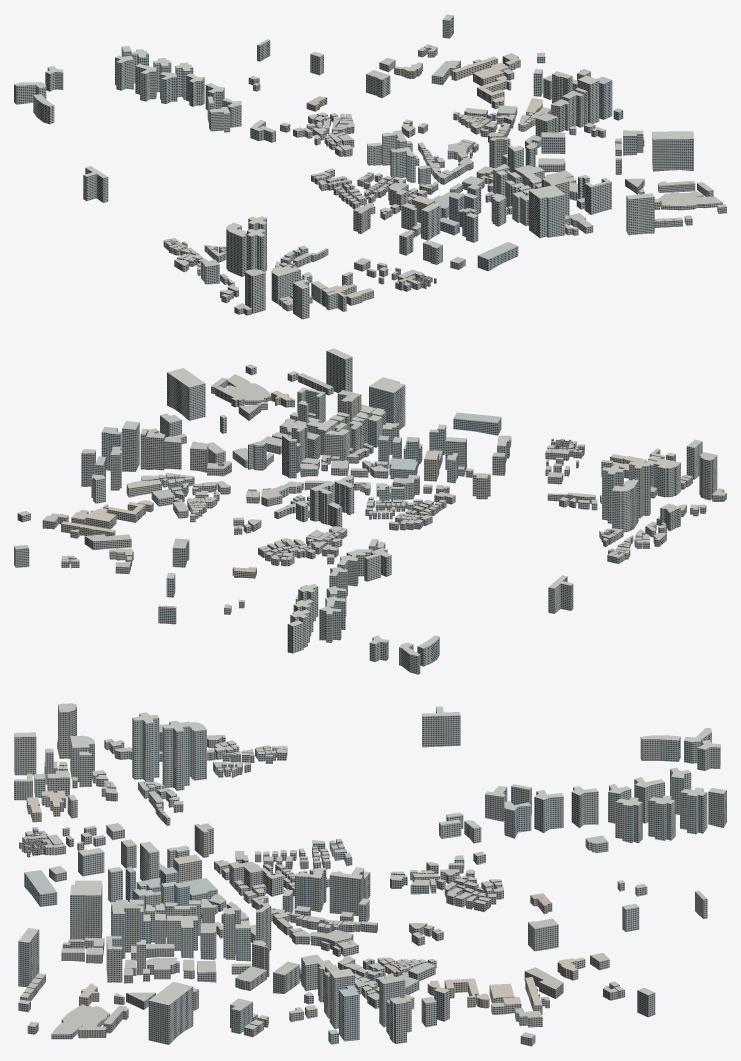
The model's file is city_0_-4.glb.
The picture shows the model from 3 angles, top to bottom: view 1: azimuth 30°, elevation 25°; view 2: azimuth 150°, elevation 25°; view 3: azimuth 270°, elevation 25°; orthographic projection. The views are drawn at different scales.
Bounding box in the file's own units: 1027 × 100 × 1025.
Materials: 5 (5 with a texture image).
